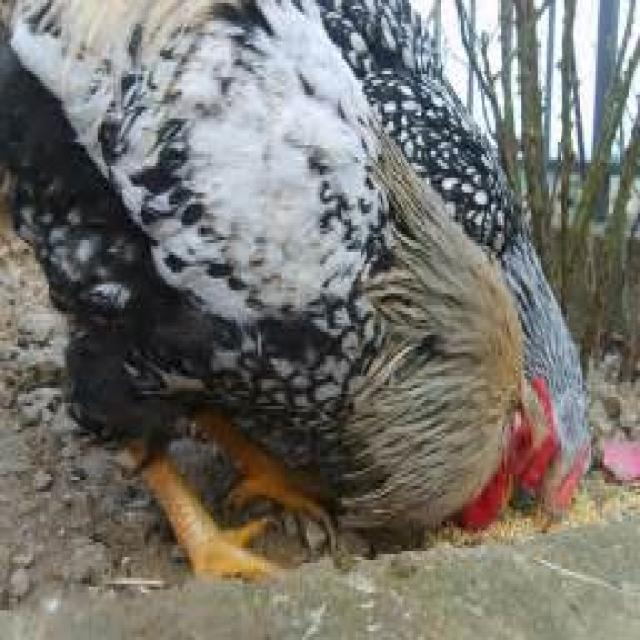animal: (0, 0, 563, 584), (314, 0, 596, 519)
